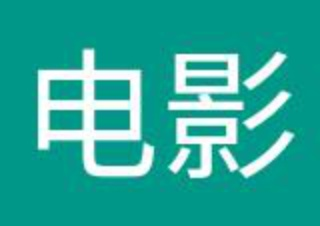TextView: (1, 1, 319, 225)
